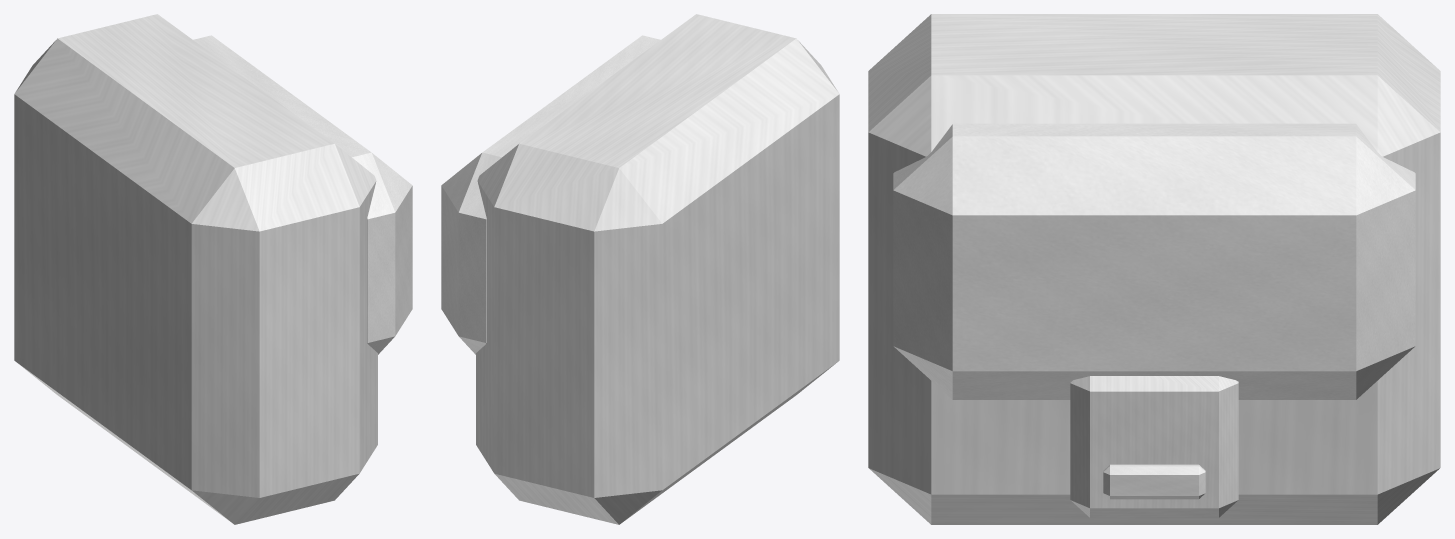
The model's file is Field_Medic_Medical_Pouch_R_LOD1.glb.
3 renders of one model, left to right at view 1: azimuth 30°, elevation 25°; view 2: azimuth 150°, elevation 25°; view 3: azimuth 270°, elevation 25°, orthographic. The views are drawn at different scales.
Parts seen in each view (by area): view 1: Field_Medic_Medical_Pouch_R_LOD1; view 2: Field_Medic_Medical_Pouch_R_LOD1; view 3: Field_Medic_Medical_Pouch_R_LOD1.
Boxes of the visible parts, x1,y1,x2,y2 form: Field_Medic_Medical_Pouch_R_LOD1: (14, 14, 412, 524); Field_Medic_Medical_Pouch_R_LOD1: (441, 14, 839, 524); Field_Medic_Medical_Pouch_R_LOD1: (868, 14, 1440, 524).
Size of the model in its own units: 0.1055 by 0.15 by 0.173.
Materials: 3 (3 with a texture image).
